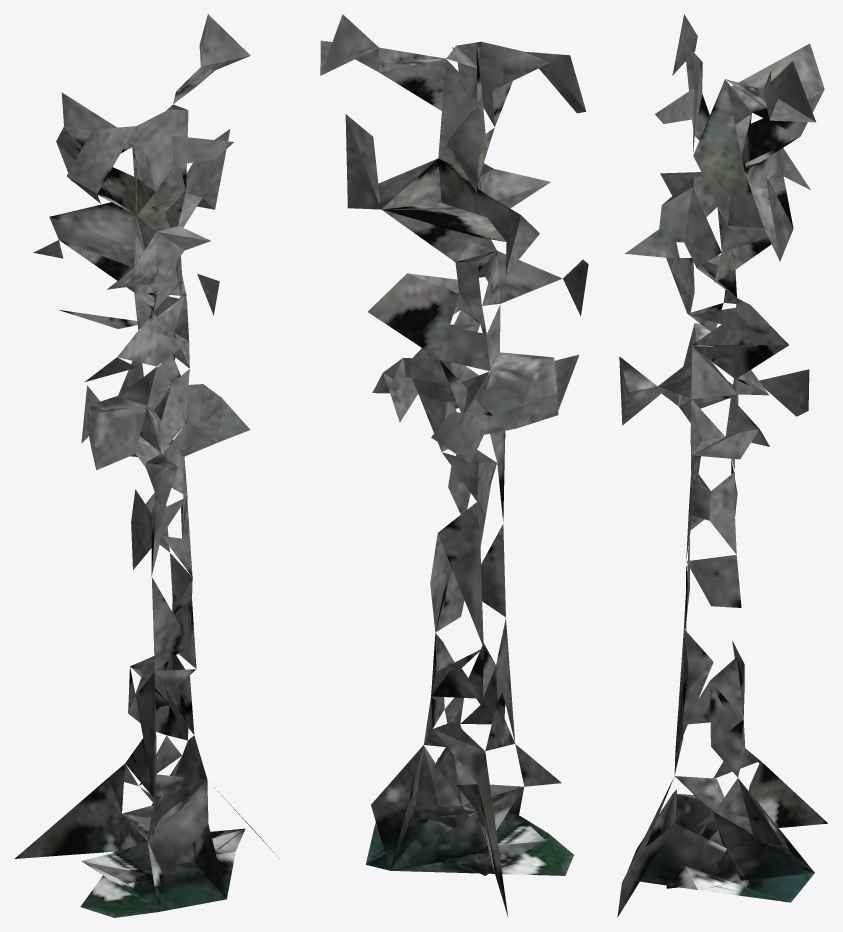
Rendered from antenna_1010336062_lod1.glb.
3 views of the same model, side by side, from view 1: azimuth 30°, elevation 25°; view 2: azimuth 150°, elevation 25°; view 3: azimuth 270°, elevation 25° (orthographic). The views are drawn at different scales.
Bounding box in the file's own units: 1.77 × 6.32 × 1.41.
1 material, 1 textured.
